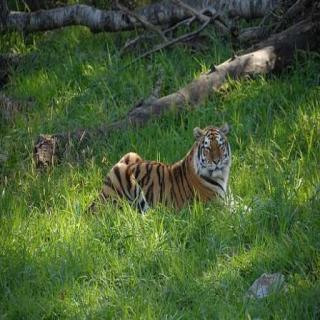Tiger: (88, 119, 250, 220)
